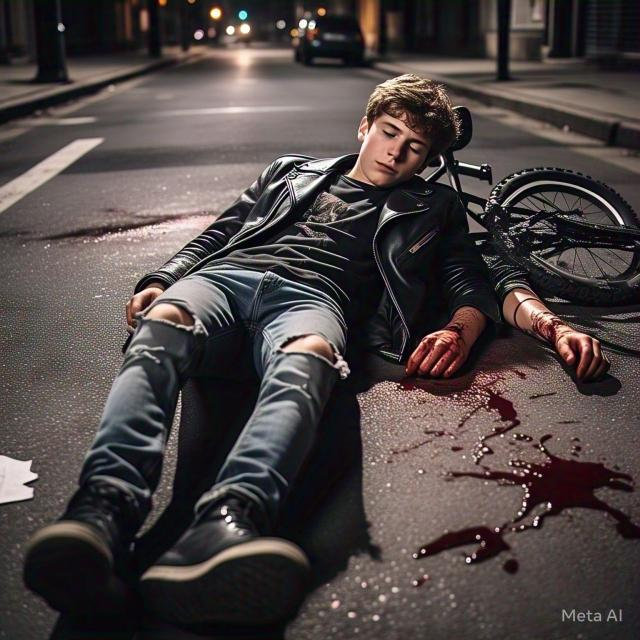injury: (352, 74, 459, 186), (406, 308, 486, 378)
